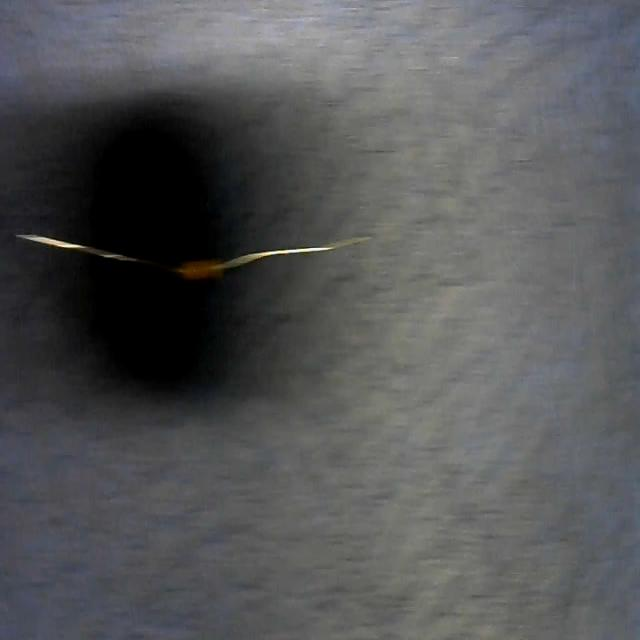resistor: (16, 234, 372, 292)
